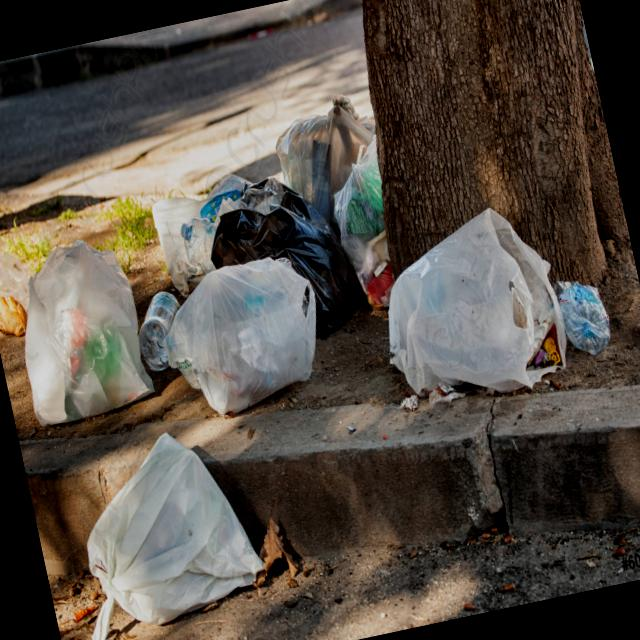garbage: (0, 32, 621, 640)
